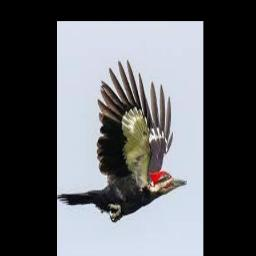Woodpecker: (58, 59, 188, 223)
